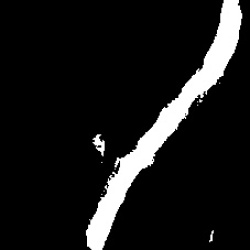crack: (84, 3, 244, 247)
pinhole: (94, 135, 102, 155)
